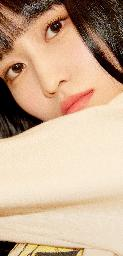springWarm: (0, 0, 122, 122)
